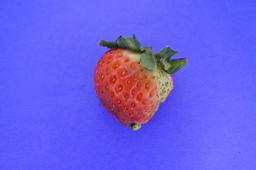red strawberry: (93, 37, 177, 131)
